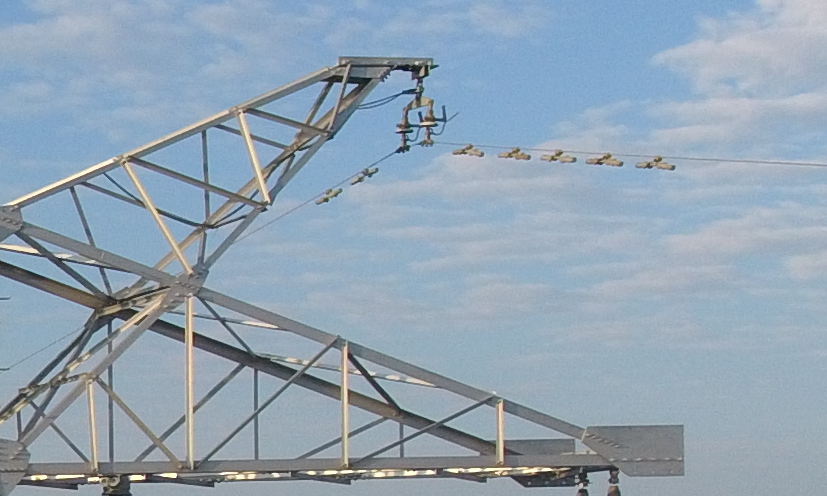damper: (633, 151, 677, 173), (349, 164, 381, 189), (538, 146, 579, 165), (585, 149, 624, 168), (313, 186, 344, 207), (450, 141, 485, 158), (496, 145, 530, 162)
